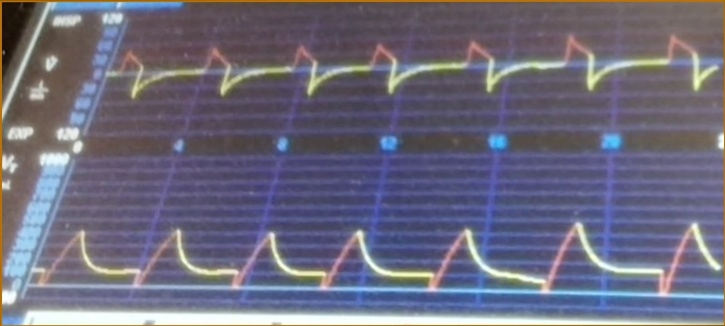Flow: (119, 24, 719, 130)
Leakage Volume: (37, 214, 719, 308)
